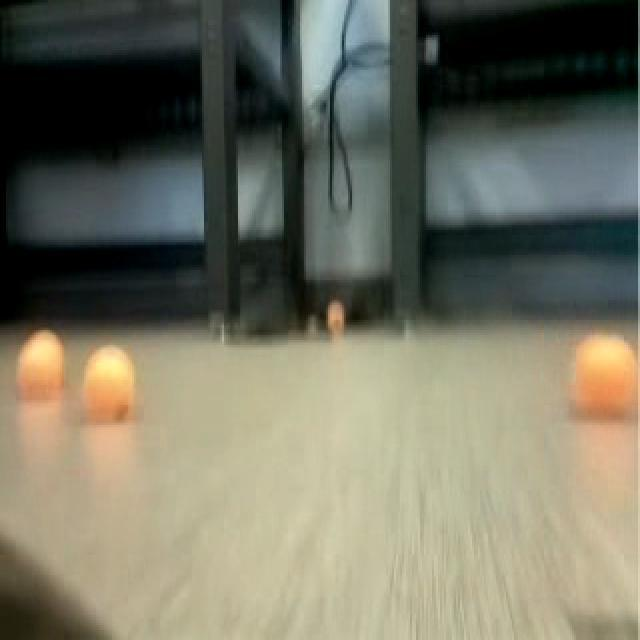oball: (566, 328, 640, 416), (80, 346, 138, 434), (19, 328, 66, 397), (322, 298, 348, 338)
